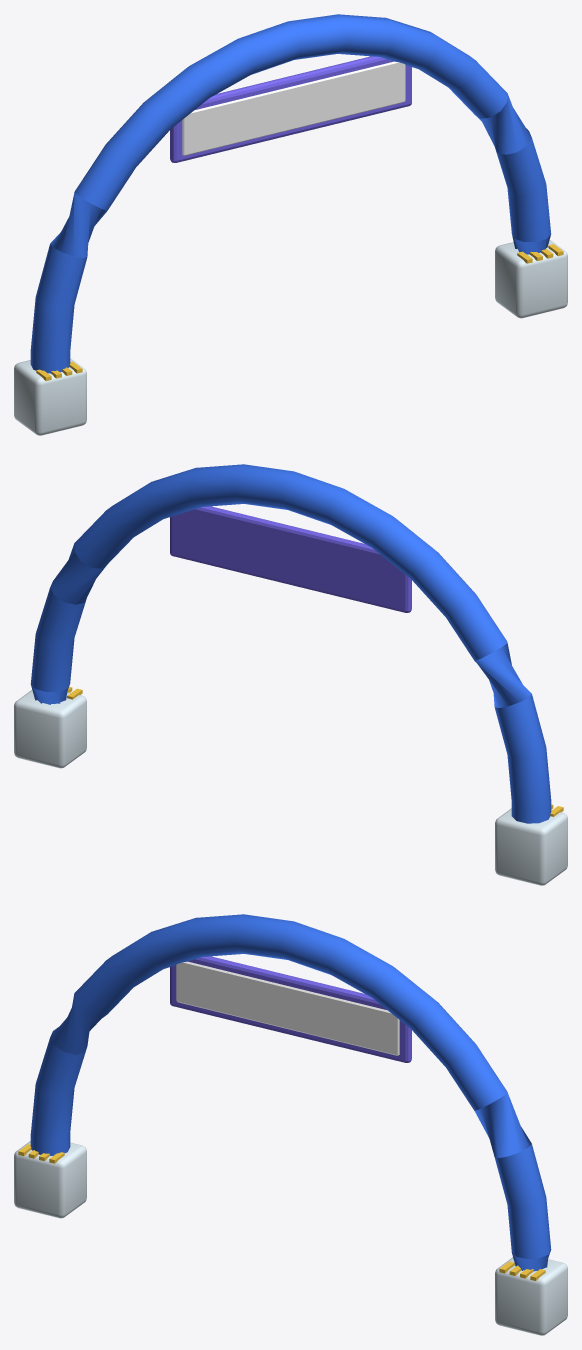
Rendered from gate_start.glb.
The picture shows the model from 3 angles, top to bottom: view 1: azimuth 30°, elevation 25°; view 2: azimuth 150°, elevation 25°; view 3: azimuth 330°, elevation 25°; orthographic projection.
Visible parts, largest first — view 1: gate_start; view 2: gate_start; view 3: gate_start.
Part boxes in pixels (bbox=[...]): gate_start: bbox=[14, 14, 567, 435]; gate_start: bbox=[14, 464, 567, 885]; gate_start: bbox=[14, 914, 567, 1335].
Size of the model in its own units: 15.5 by 9.48 by 1.35.
